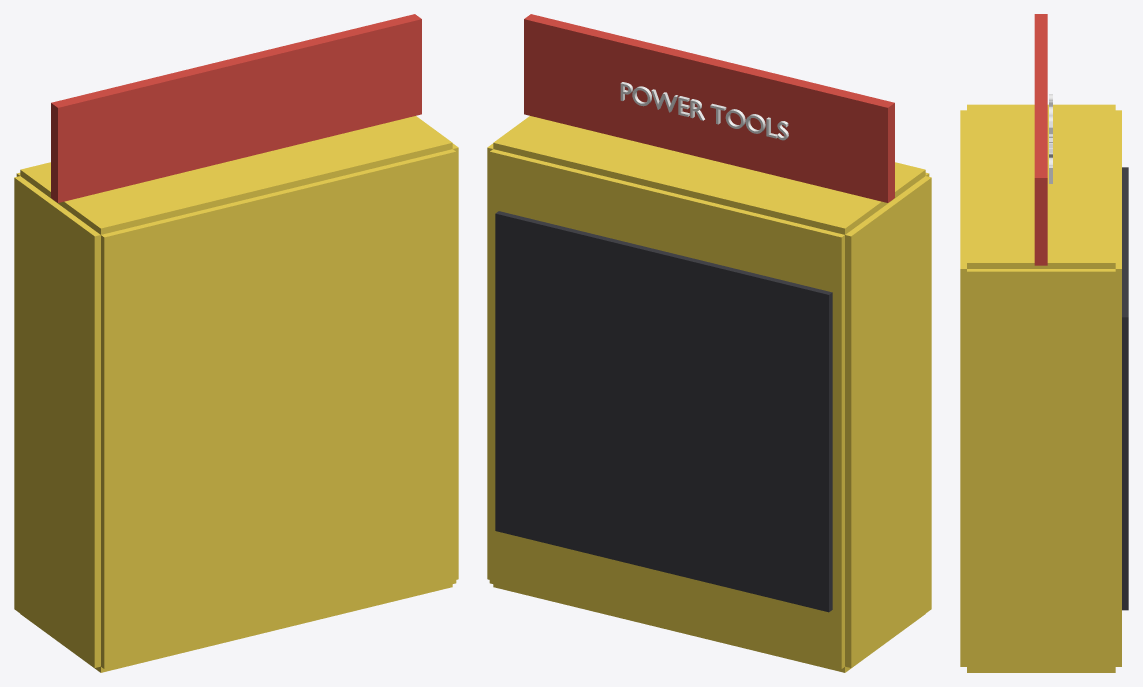
Rendered from nailgun_rack.glb.
3 views of the same model, side by side, from view 1: azimuth 30°, elevation 25°; view 2: azimuth 150°, elevation 25°; view 3: azimuth 270°, elevation 25° (orthographic). The views are drawn at different scales.
Visible parts, largest first — view 1: nailgun_rack; view 2: nailgun_rack; view 3: nailgun_rack.
Part boxes in pixels (x1,y1,x2,y2): nailgun_rack: (14,14,458,672); nailgun_rack: (487,14,931,672); nailgun_rack: (960,14,1128,672).
Size of the model in its own units: 1.2 by 1.7 by 0.52.
